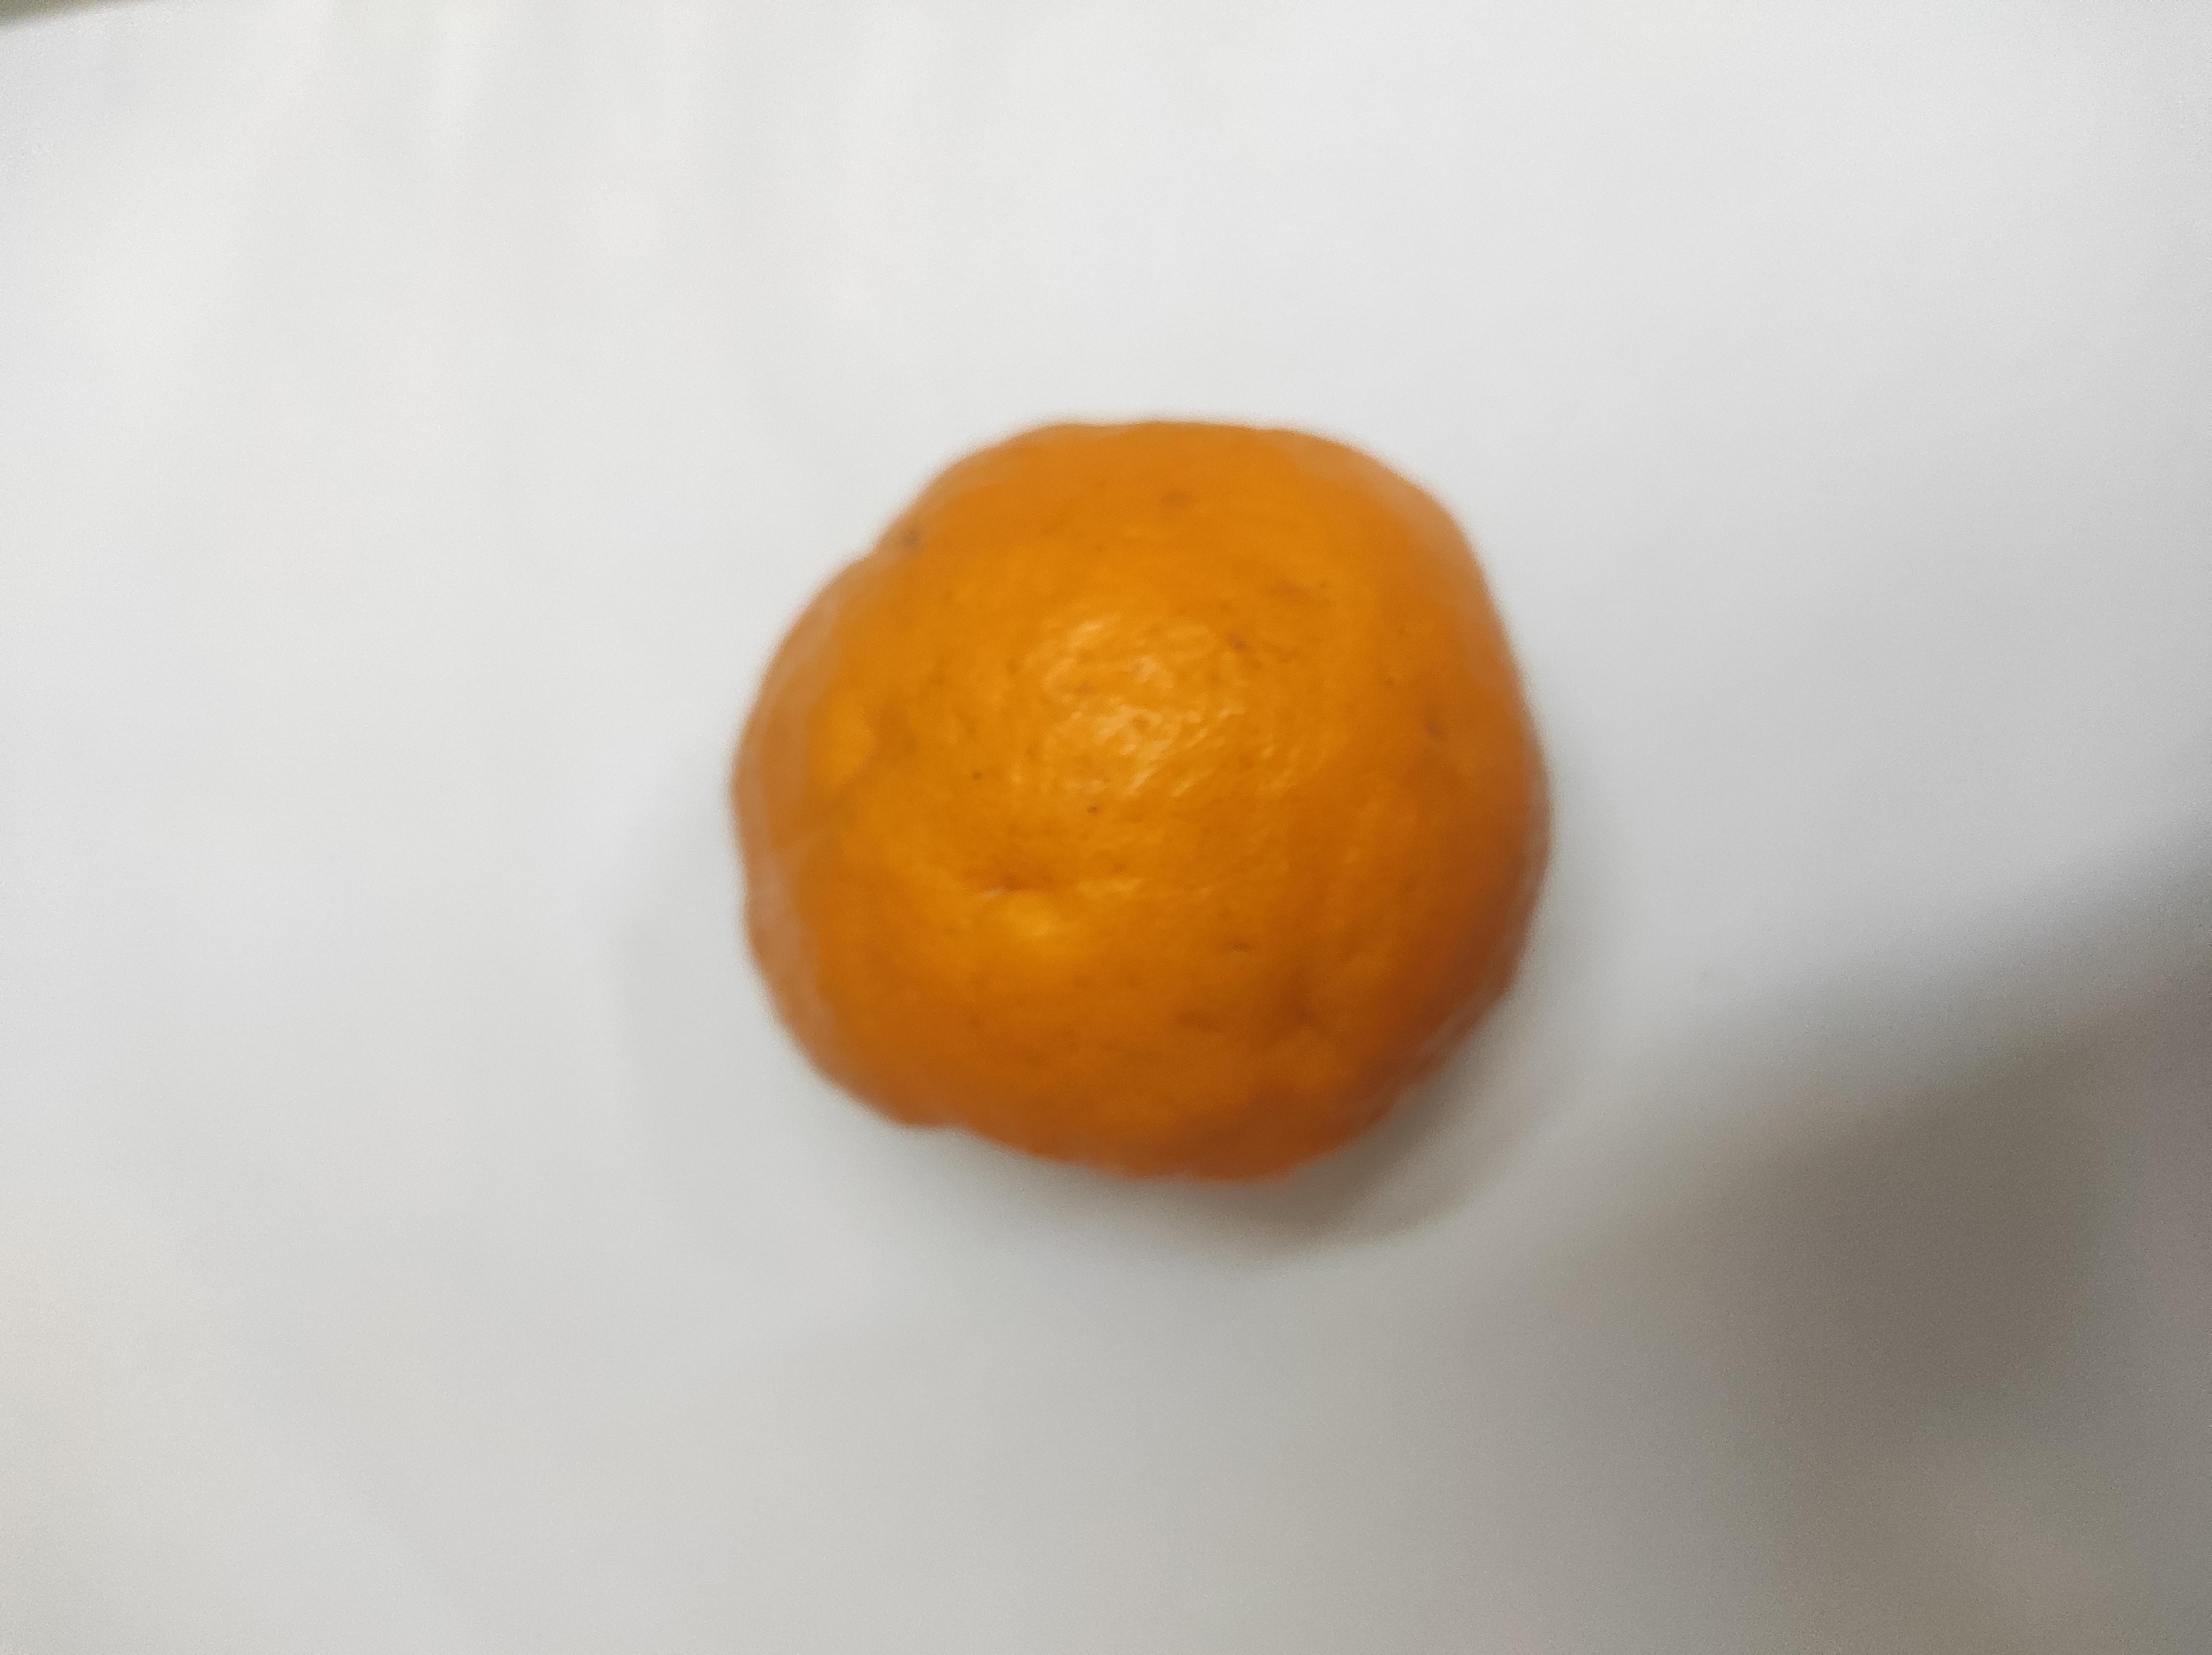Ripe: (753, 419, 1549, 1173)
